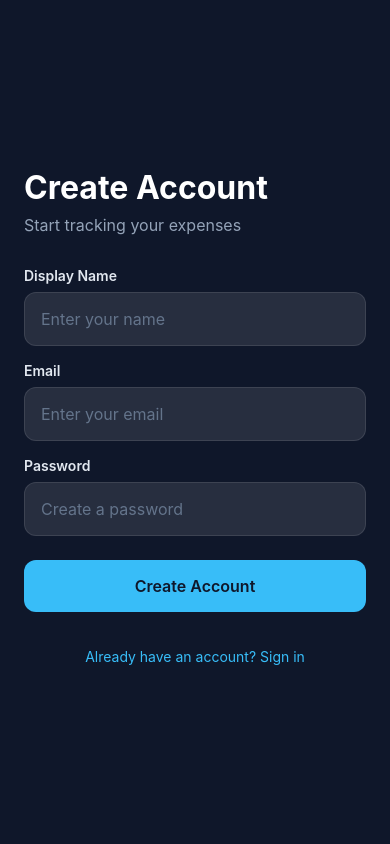
Scenario: RegisterScreen › Email Validation › shows error for invalid email
Type "Test User" into the field with placeholder "Enter your name". click: (195, 318)
box: [24, 292, 366, 346]
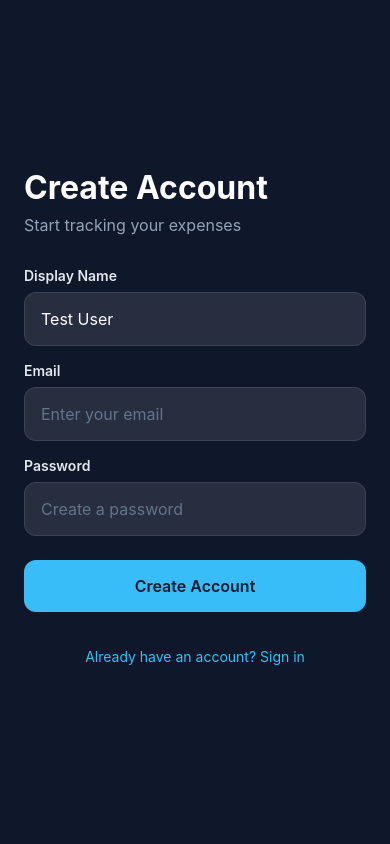
Type "invalid-email" into the field with placeholder "Enter your email". click: (195, 414)
box: [24, 386, 366, 440]
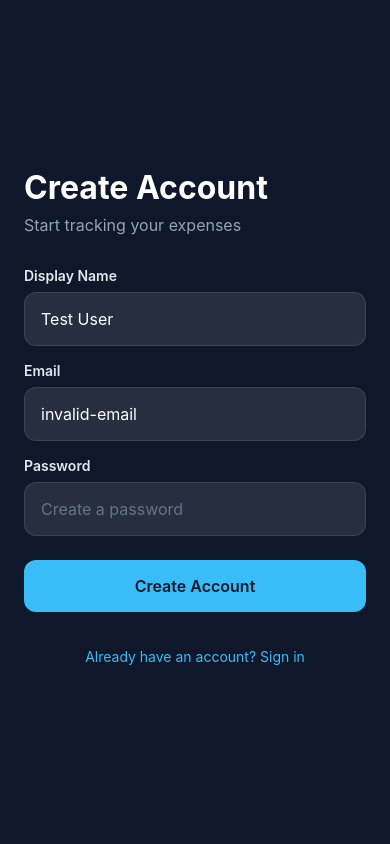
Type "Password123!" into the password field with placeholder "Create a password". click: (195, 508)
box: [24, 482, 366, 536]
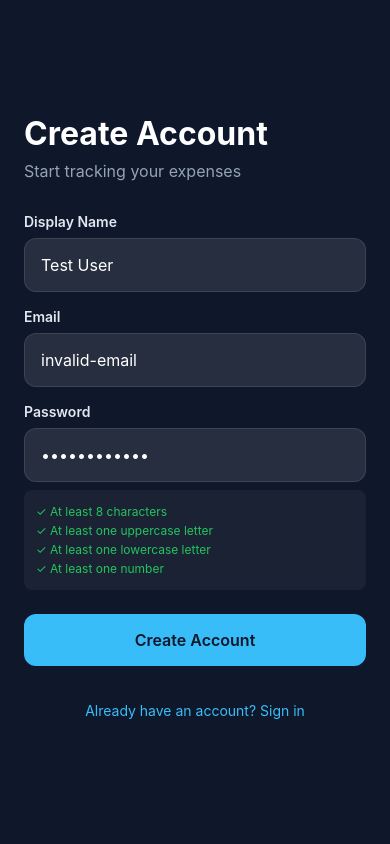
Click the element with test id "register.submitButton". click: (195, 640)
box: [24, 614, 366, 666]
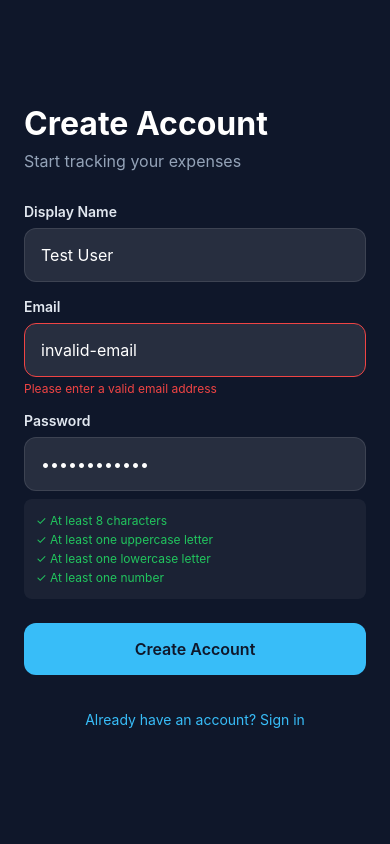
Result: the text "Please enter a valid email address" is shown at [24, 381, 217, 396]
